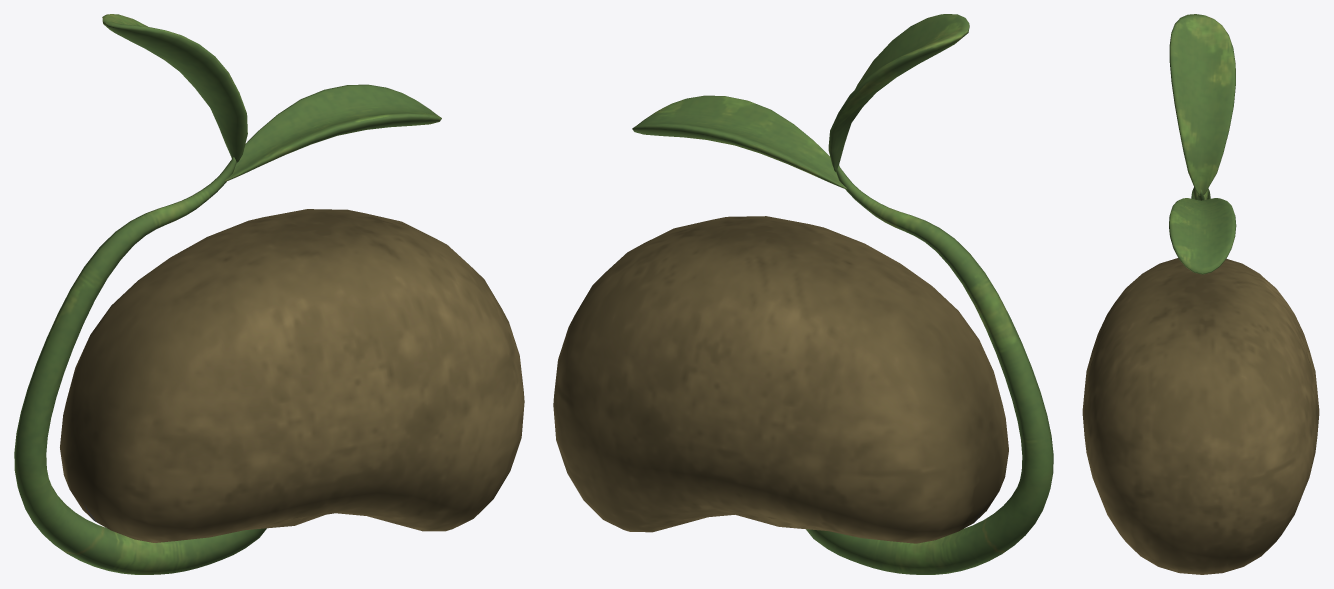
File: Seed_germ.glb
3 renders of one model, left to right at view 1: azimuth 30°, elevation 25°; view 2: azimuth 150°, elevation 25°; view 3: azimuth 270°, elevation 25°, orthographic. The views are drawn at different scales.
Visible parts, largest first — view 1: Seed_germ; view 2: Seed_germ; view 3: Seed_germ.
Boxes of the visible parts, x1,y1,x2,y2 form: Seed_germ: [14, 14, 524, 574]; Seed_germ: [553, 14, 1053, 574]; Seed_germ: [1082, 14, 1319, 574].
Size of the model in its own units: 1.38 by 1.56 by 0.7626.
Materials: 1 (1 with a texture image).
